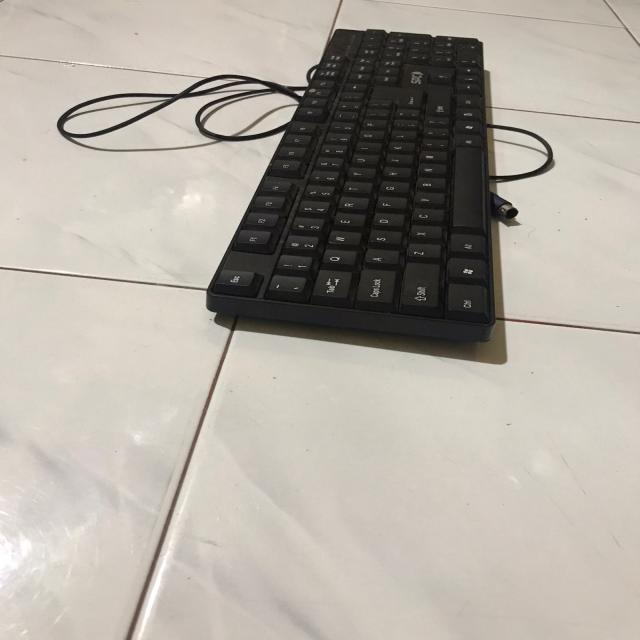-mouse-: (203, 26, 493, 342)
